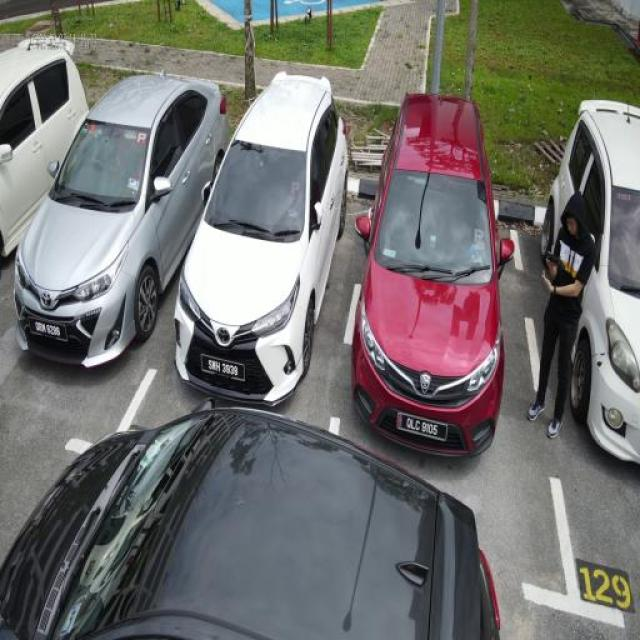Legalparking: (0, 6, 640, 505)
illegalparking: (0, 354, 640, 640)
